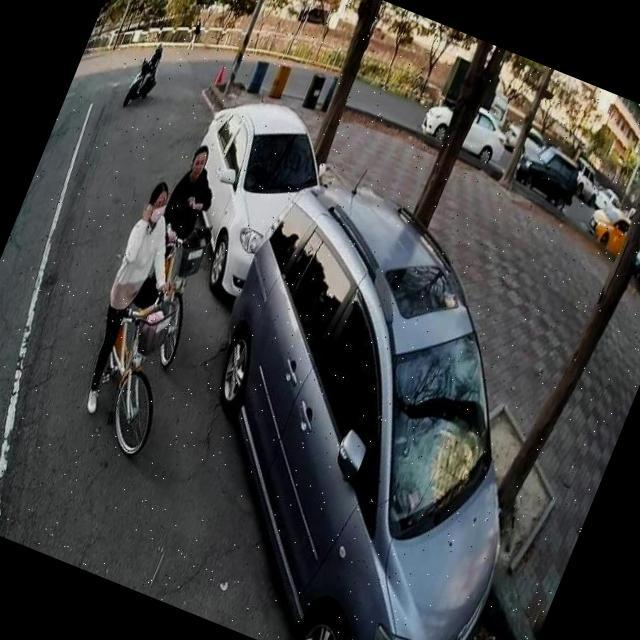person: (58, 168, 214, 428), (146, 135, 232, 264), (130, 38, 169, 102)
